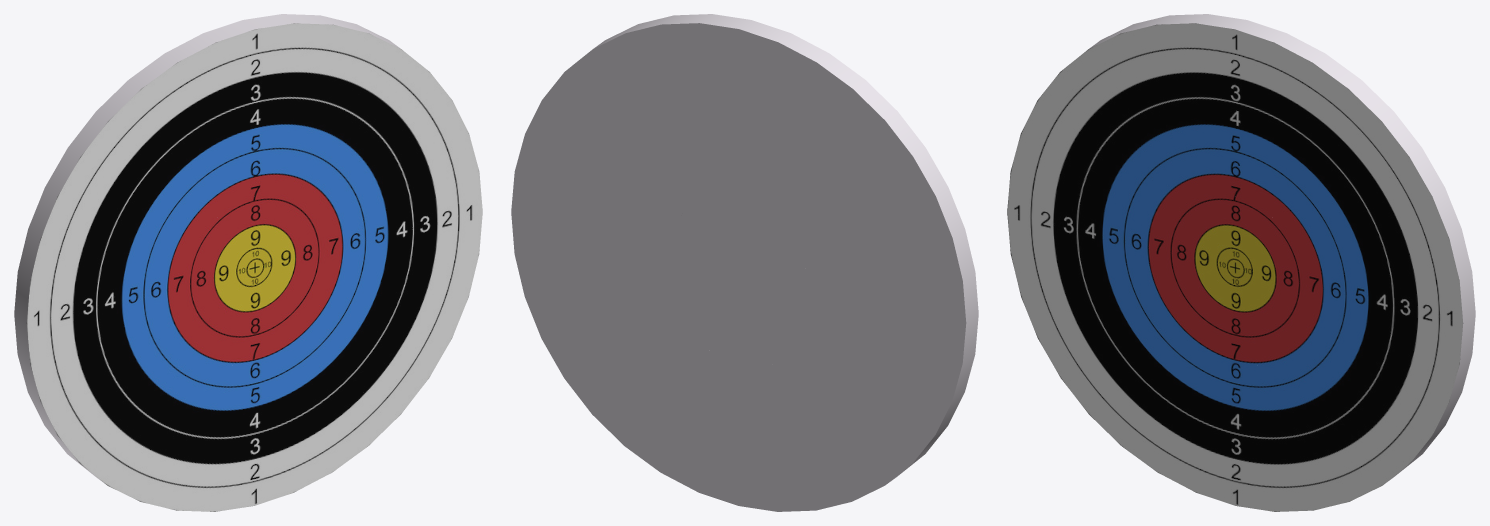
The model's file is B&A Target.fbx.
The picture shows the model from 3 angles, left to right: view 1: azimuth 30°, elevation 25°; view 2: azimuth 150°, elevation 25°; view 3: azimuth 330°, elevation 25°; orthographic projection.
Visible parts, largest first — view 1: Target1, Target2, Target3, Target4, Target5, Target6, Target7, Target8, Target9, Target10; view 2: Target1, Target2, Target3, Target4, Target5, Target6, Target7, Target8, Target9, Target10; view 3: Target1, Target2, Target3, Target4, Target5, Target6, Target7, Target8, Target9, Target10.
Boxes of the visible parts, box(x1,y1,x2,y2) form: Target1: box(14, 14, 482, 511); Target2: box(49, 47, 459, 487); Target3: box(72, 72, 437, 462); Target4: box(95, 96, 414, 438); Target5: box(118, 121, 391, 414); Target6: box(140, 145, 368, 389); Target7: box(163, 170, 345, 365); Target8: box(186, 194, 322, 340); Target9: box(209, 218, 300, 316); Target10: box(232, 243, 277, 291); Target1: box(511, 14, 978, 511); Target2: box(534, 47, 943, 487); Target3: box(556, 72, 920, 462); Target4: box(579, 96, 897, 438); Target5: box(602, 121, 875, 414); Target6: box(625, 145, 852, 389); Target7: box(647, 169, 829, 365); Target8: box(670, 194, 806, 340); Target9: box(693, 218, 784, 316); Target10: box(716, 243, 761, 291); Target1: box(1007, 14, 1475, 511); Target2: box(1030, 47, 1440, 487); Target3: box(1052, 72, 1417, 462); Target4: box(1075, 96, 1394, 438); Target5: box(1098, 121, 1371, 414); Target6: box(1121, 145, 1349, 389); Target7: box(1144, 170, 1326, 365); Target8: box(1167, 194, 1303, 340); Target9: box(1189, 218, 1280, 316); Target10: box(1212, 243, 1257, 291).
Size of the model in its own units: 2 by 2 by 0.1018.
Materials: 1 (1 with a texture image).
